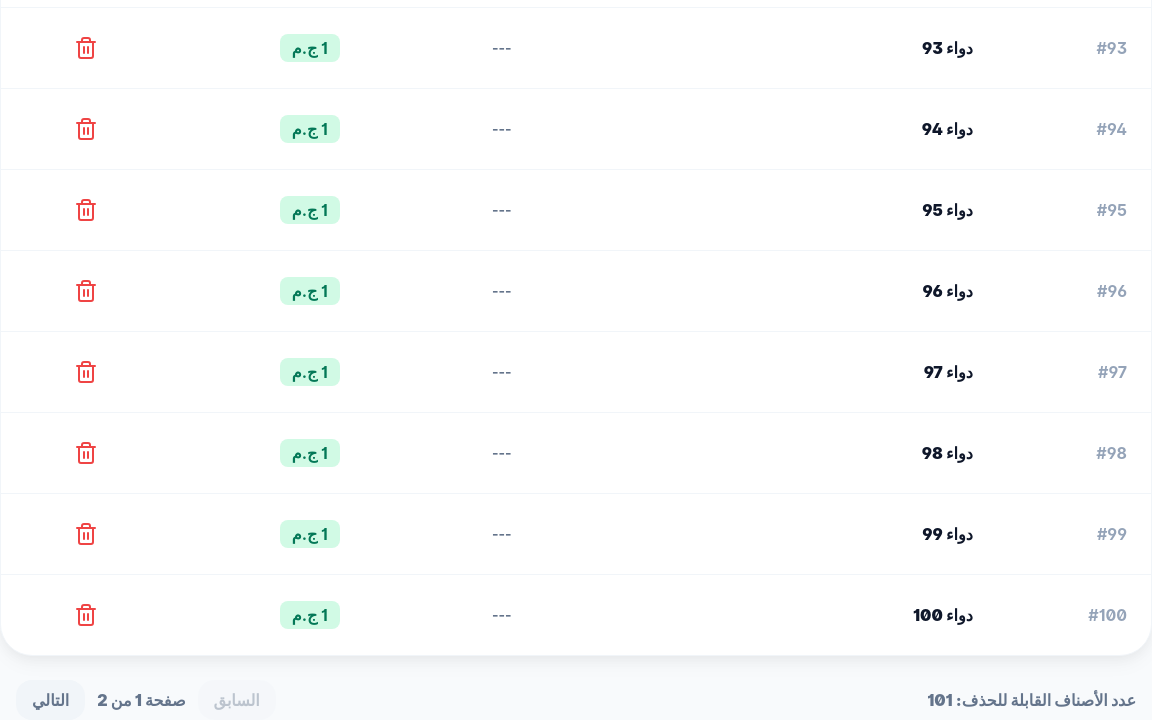
Test case: DeleteUnusedItemsClient pagination › keeps the large catalogue DOM bounded while retaining access to later items
The width and height of the screenshot is (1152, 720).
(page scrolled)
Click the button "التالي". click: (51, 700)
box: [16,680,85,719]
(page scrolled)
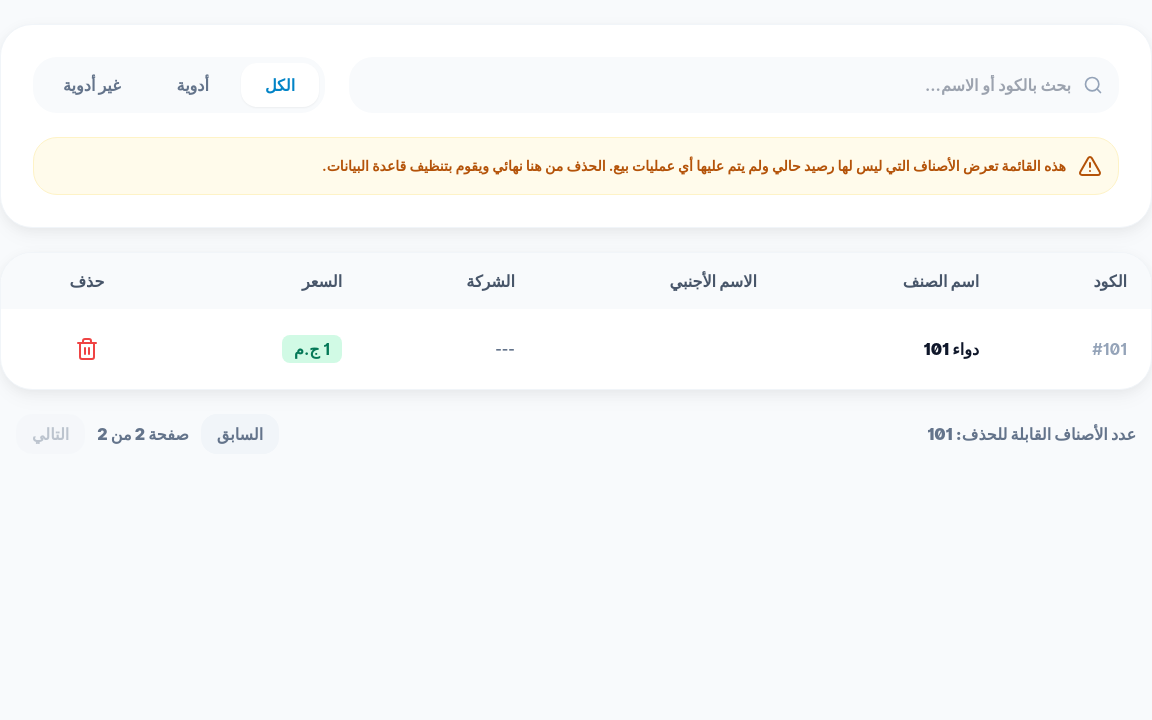
Expected: the number of buttons named "حذف " is 1, [63,325,111,373]
